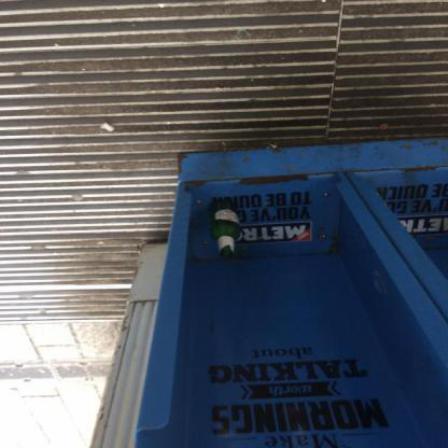Bottle: (209, 201, 241, 261)
Unlabeled litter: (101, 123, 117, 134)
